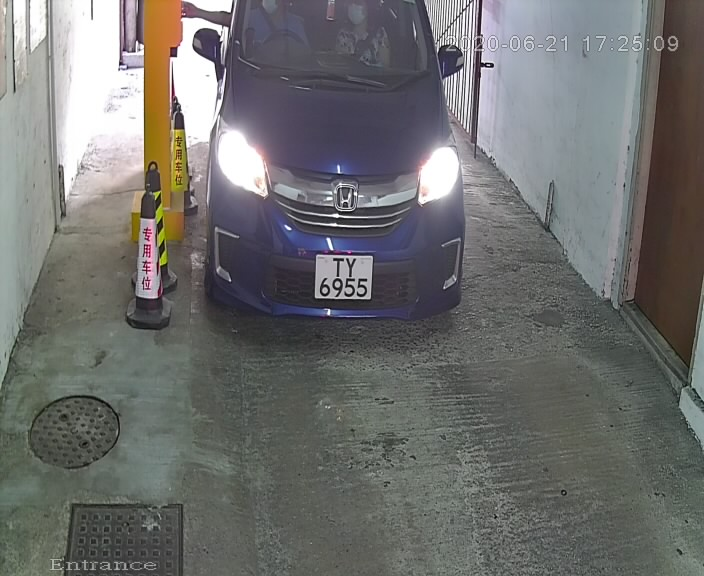privatecar: (184, 1, 491, 345)
